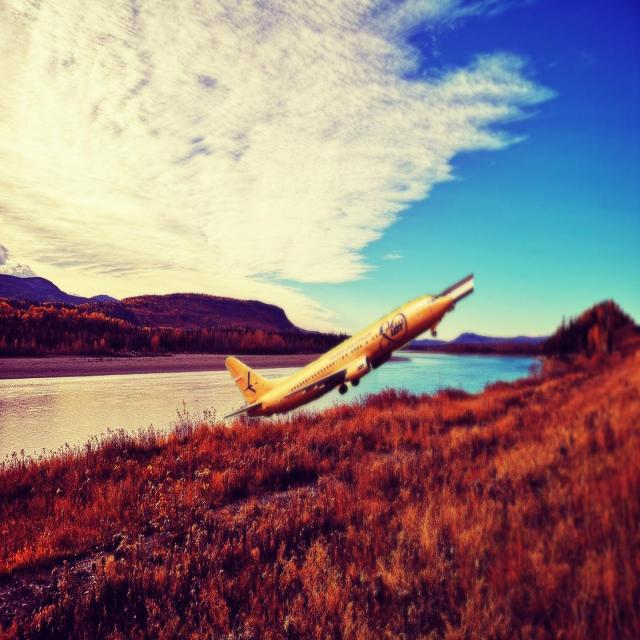airplane: (222, 271, 474, 422)
